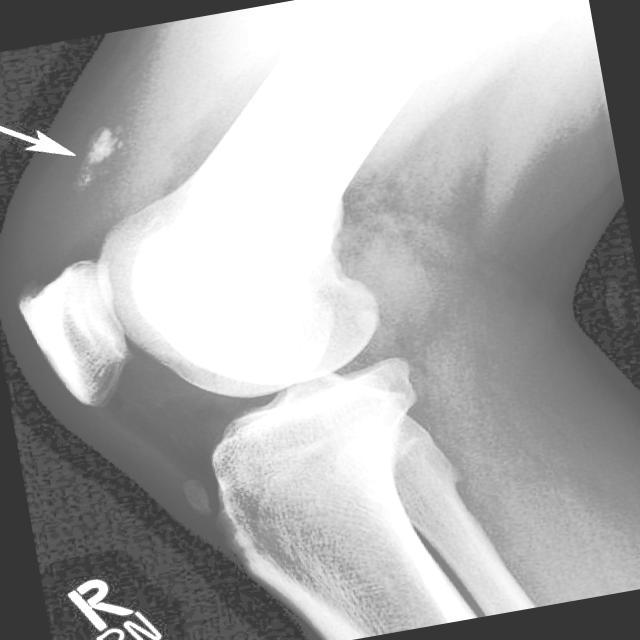Avlusion Fracture: (79, 122, 126, 184)
